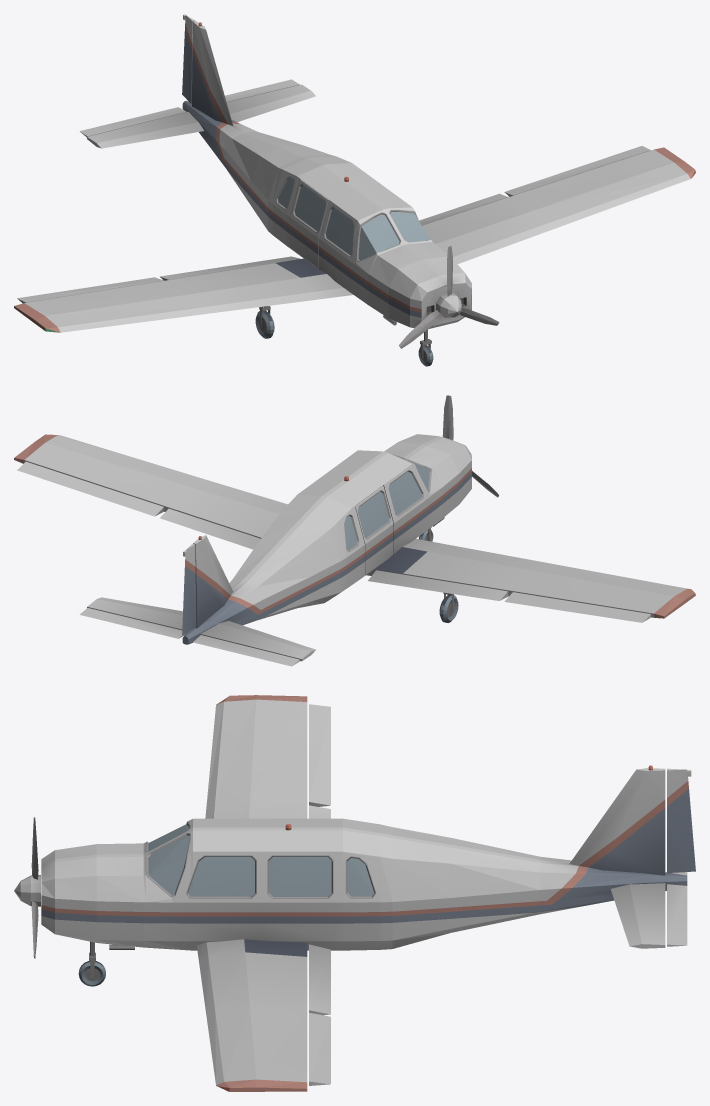
The model's file is cessna.glb.
The picture shows the model from 3 angles, top to bottom: view 1: azimuth 30°, elevation 25°; view 2: azimuth 150°, elevation 25°; view 3: azimuth 270°, elevation 25°; orthographic projection. The views are drawn at different scales.
Parts seen in each view (by area): view 1: cessna; view 2: cessna; view 3: cessna.
Part boxes in pixels (bbox=[...]): cessna: bbox=[14, 14, 695, 366]; cessna: bbox=[14, 395, 695, 666]; cessna: bbox=[14, 695, 695, 1091].
Bounding box in the file's own units: 10.9 × 2.85 × 8.
